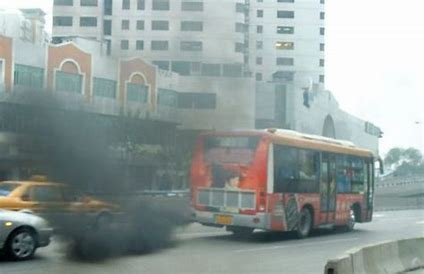smoke: (41, 200, 195, 262)
